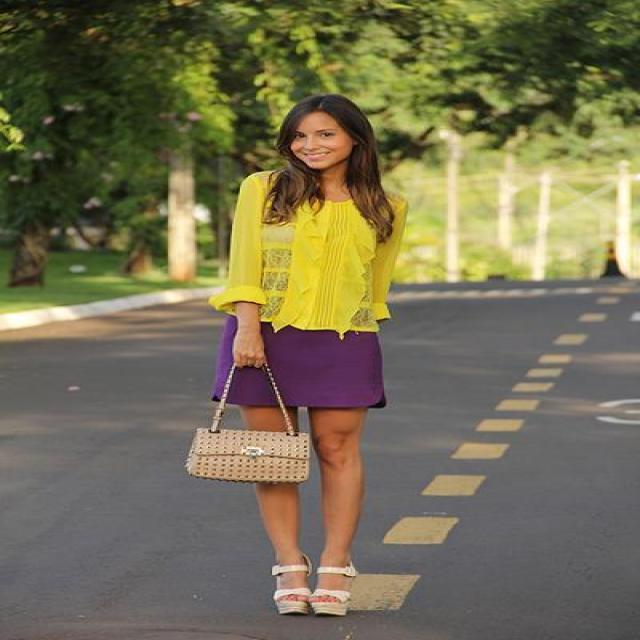bag: (185, 428, 308, 482)
shirt: (211, 171, 416, 338)
shoe: (272, 550, 366, 614)
skirt: (187, 320, 386, 421)
